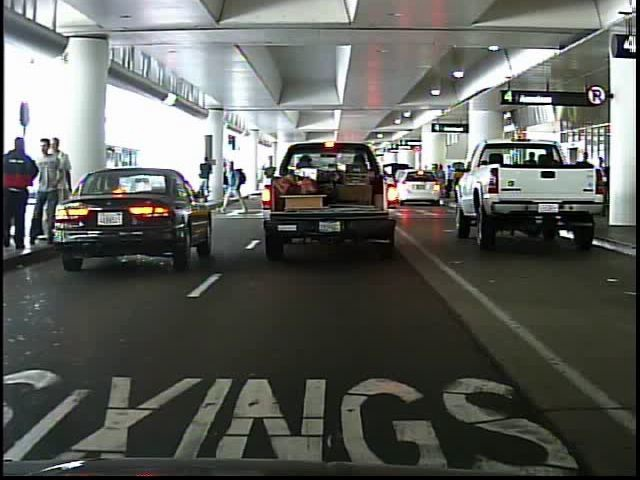person: (1, 135, 41, 255), (34, 135, 59, 243), (53, 134, 78, 241), (223, 154, 248, 213)
